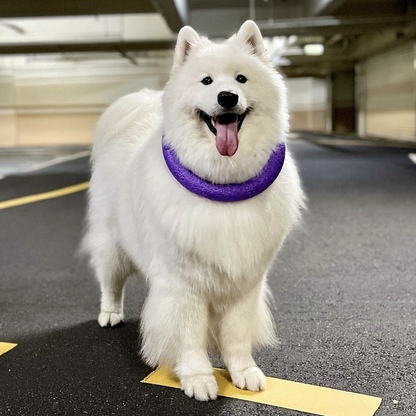samoyed: (77, 17, 310, 406)
